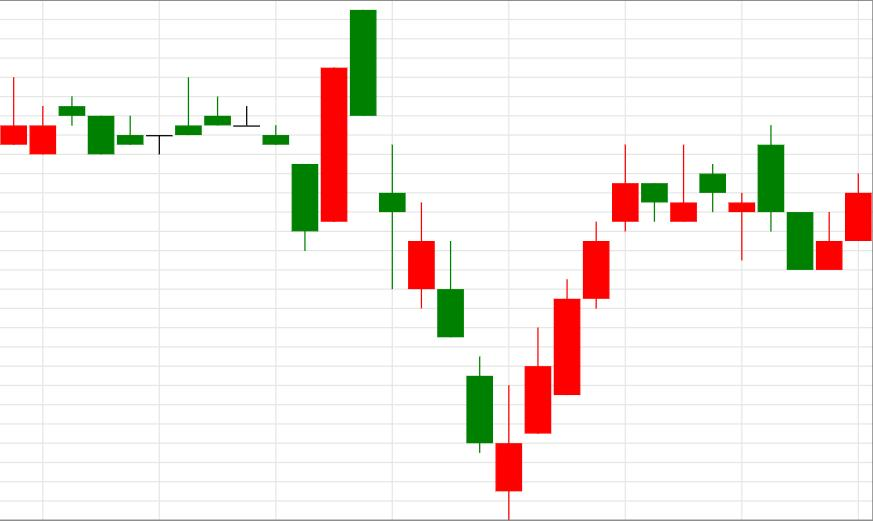three_white_soldiers_rise: (350, 11, 609, 519)
